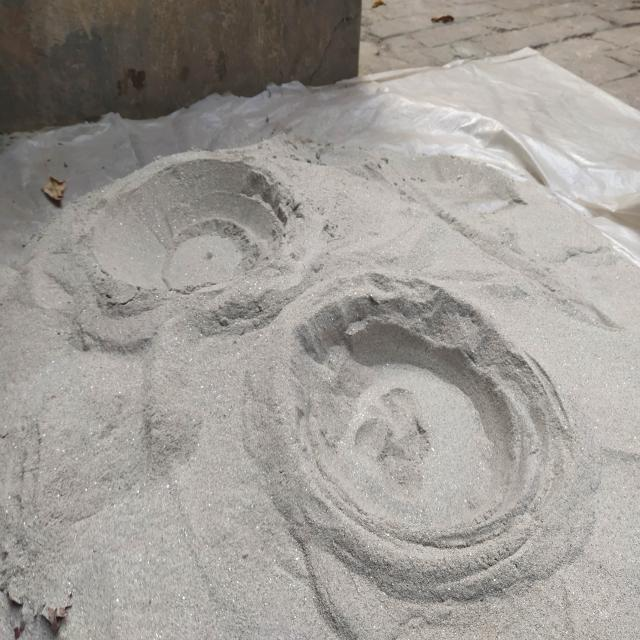C20: (266, 275, 588, 600), (78, 158, 295, 295)
